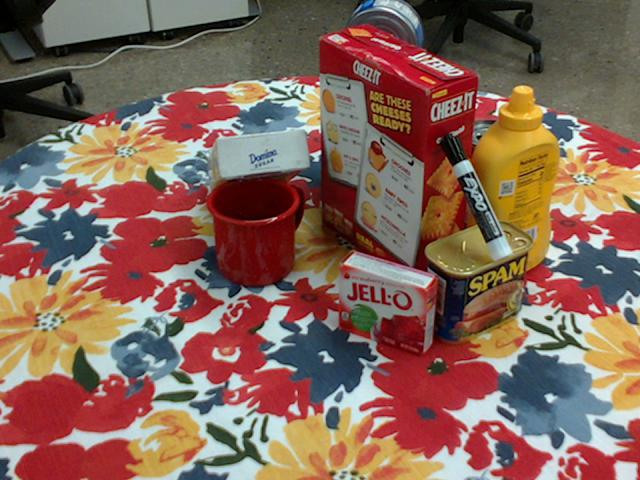cracker_box: (317, 26, 476, 288)
gelatin_box: (337, 249, 439, 354)
large_marker: (439, 132, 513, 260)
master_chef_can: (320, 57, 413, 207)
mug: (207, 175, 307, 285)
mustard_bottle: (461, 86, 559, 279)
potted_meat_can: (424, 219, 534, 343)
sugar_box: (206, 130, 310, 191)
tomato_soup_can: (453, 120, 523, 229)
tuna_fish_can: (340, 0, 422, 81)
